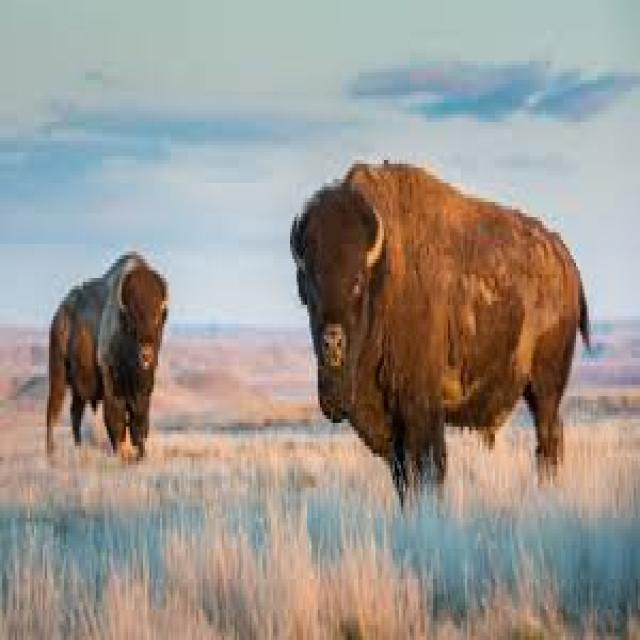Bison: (288, 144, 599, 528), (38, 239, 185, 478)
